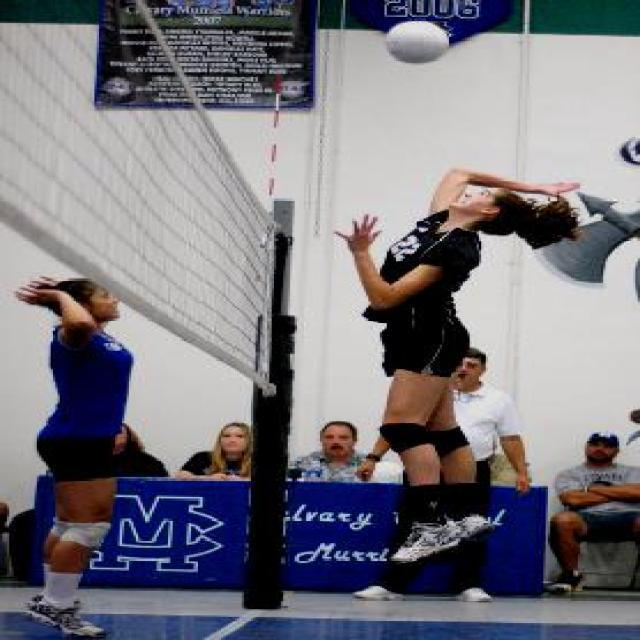volleyball: (387, 20, 450, 66)
